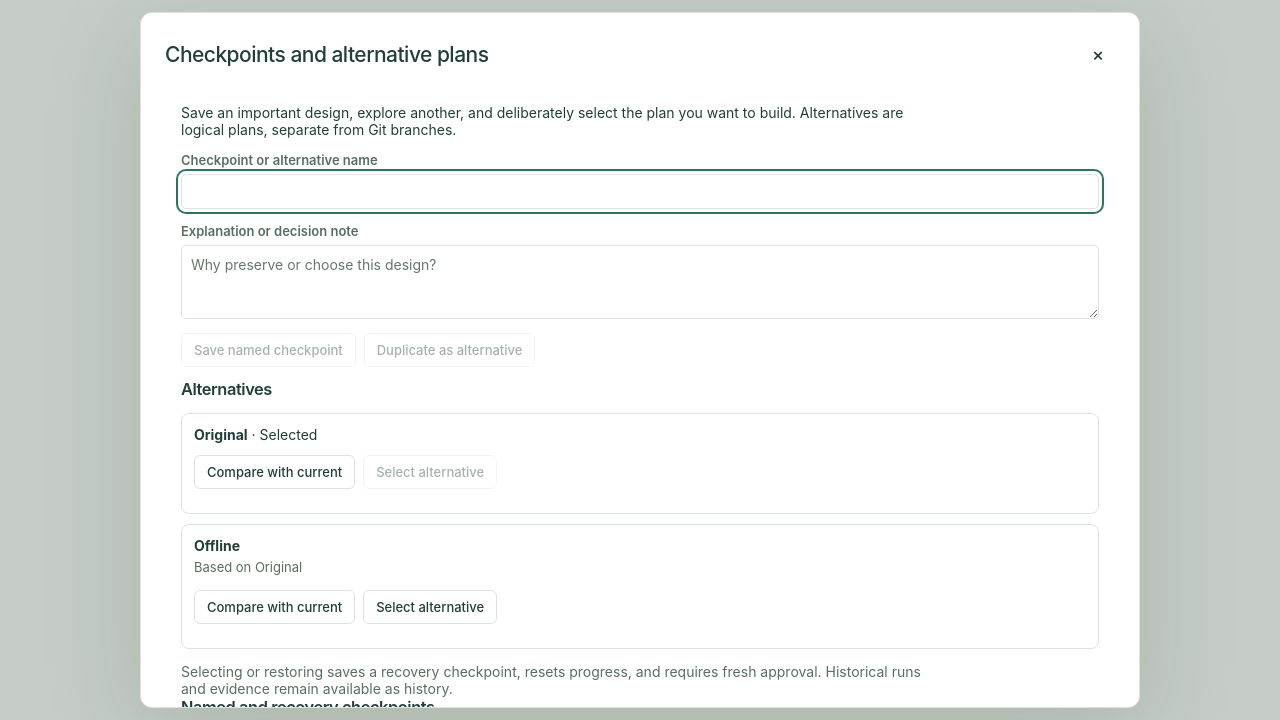
Test: saves current work through the save queue before preserving or selecting alternatives
This screenshot has width=1280, height=720.
Expected: the text "Offline" is shown, [194,537,240,554]
In the field labelled "Checkpoint or alternative name": (640,192) [181,174,1099,209], type "Baseline checkpoint"
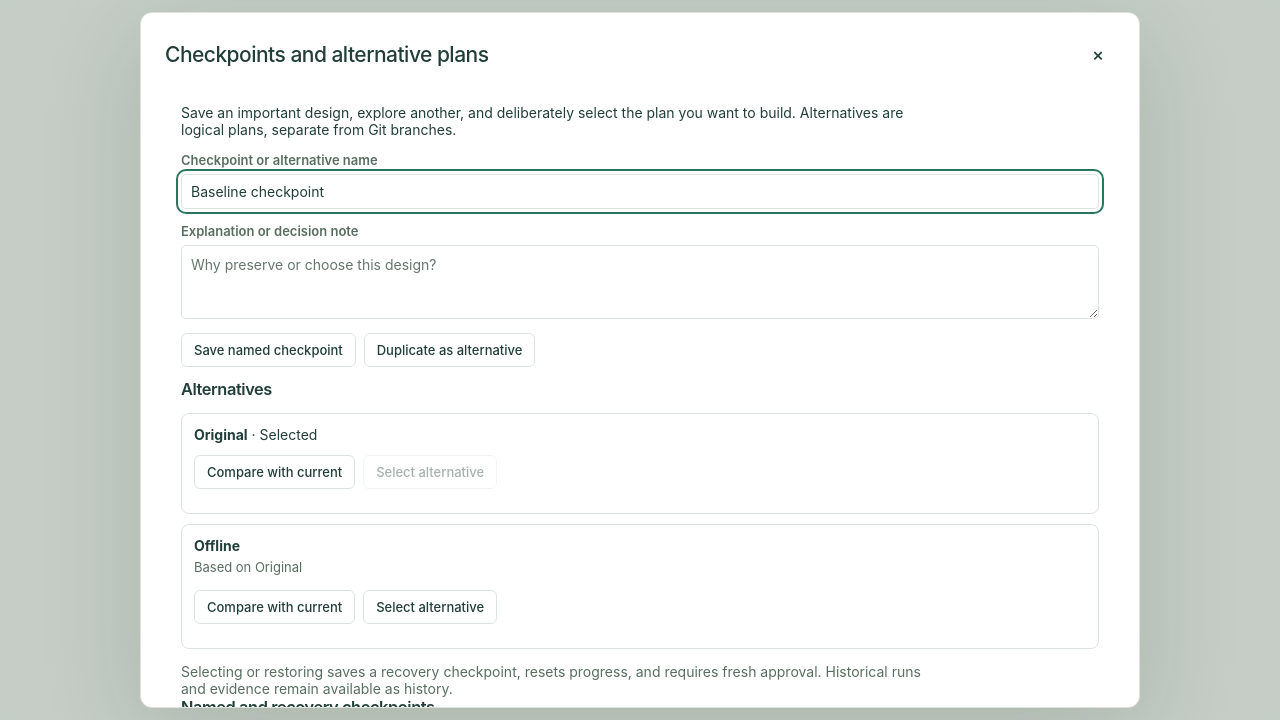
Click the button "Save named checkpoint": (268,350) [181,333,356,367]
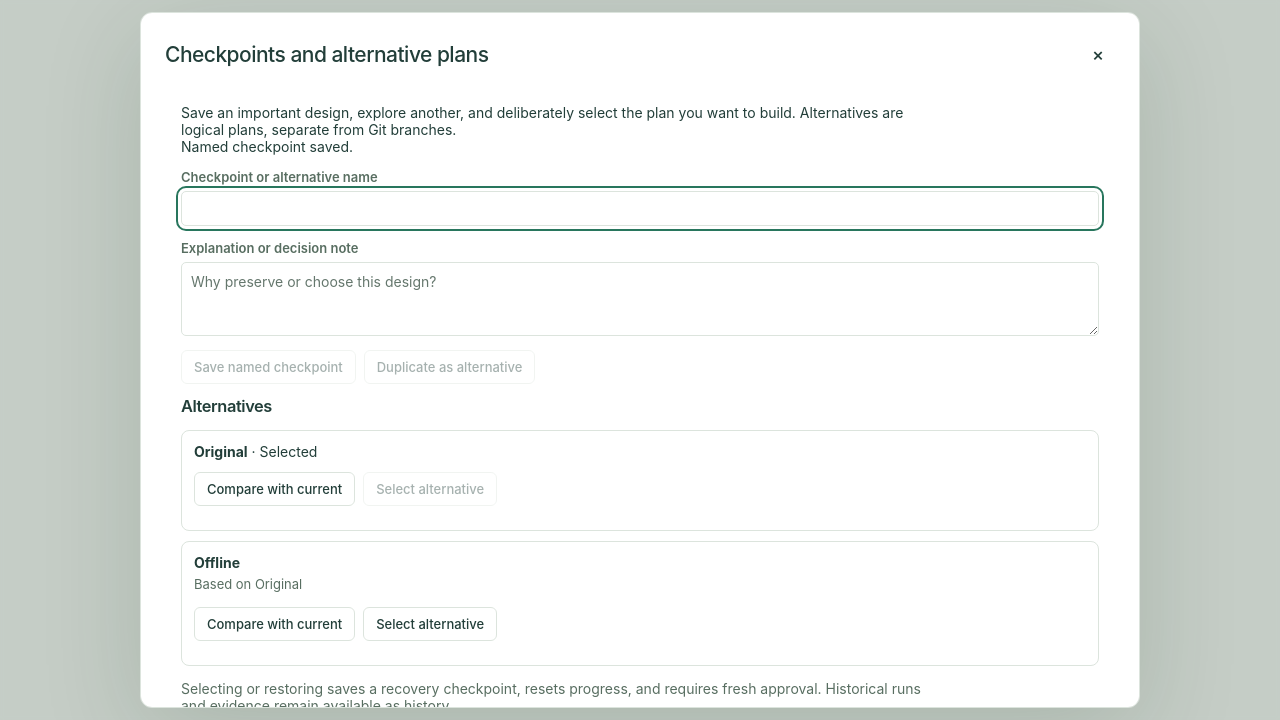
Expected: the text "Named checkpoint saved." is shown, [181,138,353,155]
Click the button "Select alternative" below "Offline": (430,624) [363,606,497,640]
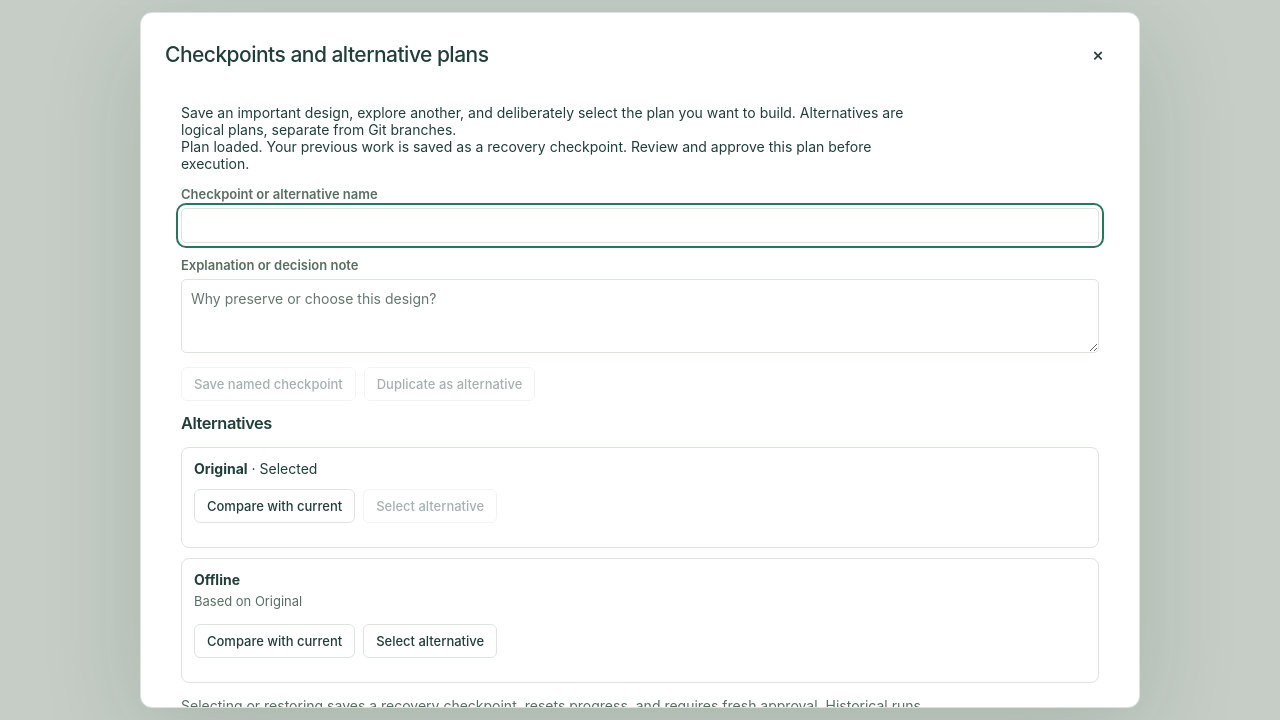
Expected: the text "previous work is saved as a recovery checkpoint" is shown, [181,138,871,172]
